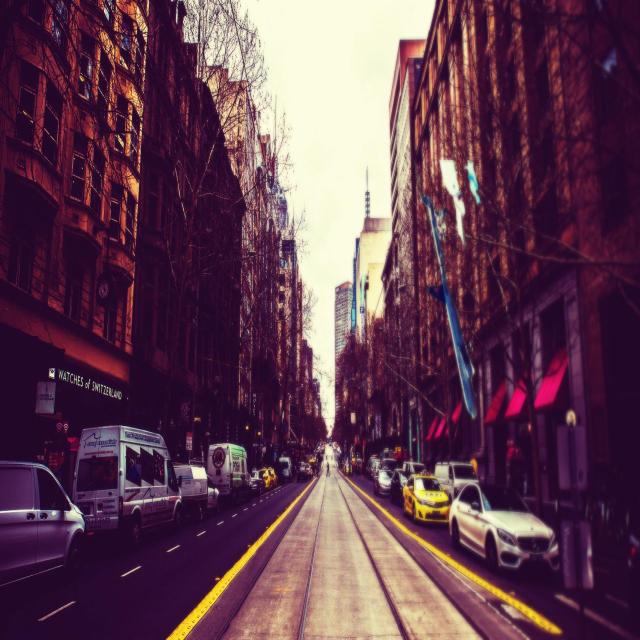airplane: (418, 185, 478, 419), (442, 158, 465, 244), (467, 158, 481, 206)
